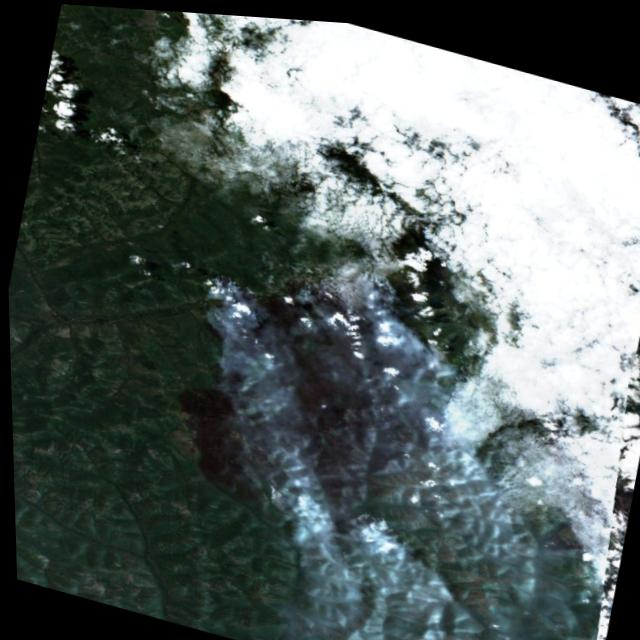fire: (271, 256, 428, 358), (328, 496, 416, 559), (178, 258, 257, 326)
